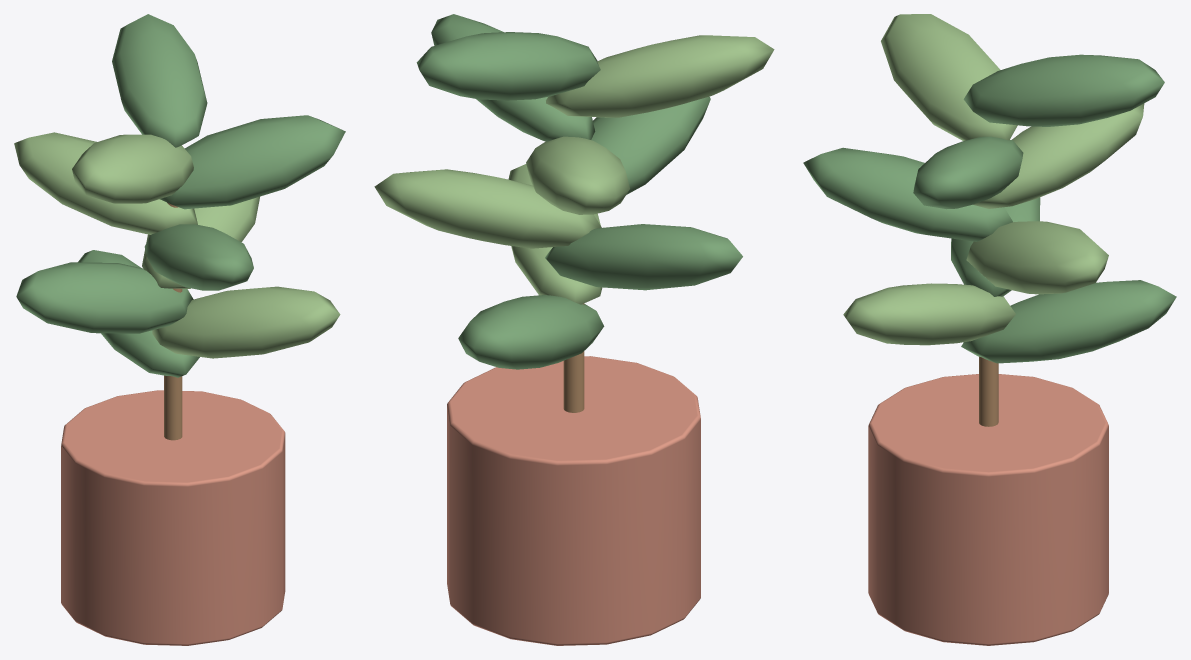
File: alpha_plant.glb
3 views of the same model, side by side, from view 1: azimuth 30°, elevation 25°; view 2: azimuth 150°, elevation 25°; view 3: azimuth 270°, elevation 25° (orthographic). The views are drawn at different scales.
Visible parts, largest first — view 1: Alpha_coral, Alpha_green, Alpha_leaf, Alpha_oak; view 2: Alpha_coral, Alpha_green, Alpha_leaf, Alpha_oak; view 3: Alpha_coral, Alpha_green, Alpha_leaf, Alpha_oak.
Part boxes in pixels (x1,y1,x2,y2): Alpha_coral: (61, 390, 285, 645); Alpha_green: (16, 14, 345, 377); Alpha_leaf: (14, 132, 340, 358); Alpha_oak: (164, 202, 182, 440); Alpha_coral: (447, 356, 700, 645); Alpha_green: (416, 14, 742, 369); Alpha_leaf: (374, 35, 774, 304); Alpha_oak: (563, 303, 584, 412); Alpha_coral: (868, 374, 1108, 645); Alpha_green: (803, 54, 1176, 363); Alpha_leaf: (843, 14, 1144, 345); Alpha_oak: (979, 356, 998, 426).
Size of the model in its own units: 0.8261 by 1.37 by 0.8388.
